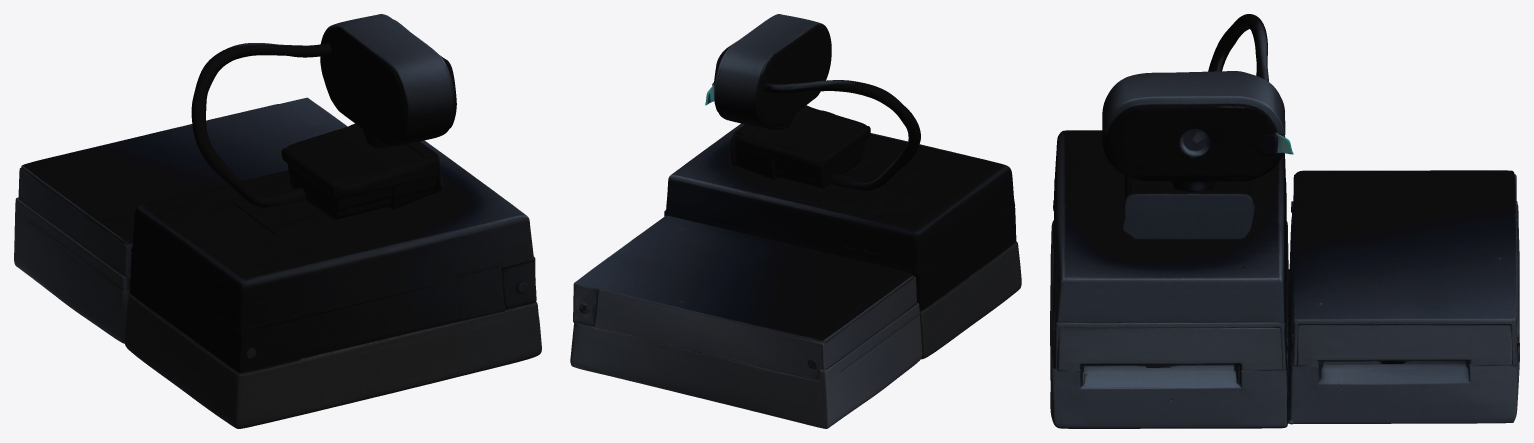
Rendered from check_id_sr-v1.glb.
3 renders of one model, left to right at view 1: azimuth 30°, elevation 25°; view 2: azimuth 150°, elevation 25°; view 3: azimuth 270°, elevation 25°, orthographic. The views are drawn at different scales.
Visible parts, largest first — view 1: tripo_node_8d1dda56-c5a3-441a-9a5b-82abd2fb1cce; view 2: tripo_node_8d1dda56-c5a3-441a-9a5b-82abd2fb1cce; view 3: tripo_node_8d1dda56-c5a3-441a-9a5b-82abd2fb1cce.
Boxes of the visible parts, x1=… form: tripo_node_8d1dda56-c5a3-441a-9a5b-82abd2fb1cce: x1=14, y1=14, x2=541, y2=428; tripo_node_8d1dda56-c5a3-441a-9a5b-82abd2fb1cce: x1=570, y1=14, x2=1021, y2=428; tripo_node_8d1dda56-c5a3-441a-9a5b-82abd2fb1cce: x1=1050, y1=14, x2=1519, y2=428.
Size of the model in its own units: 0.7903 by 0.7158 by 1.
1 material, 1 textured.
